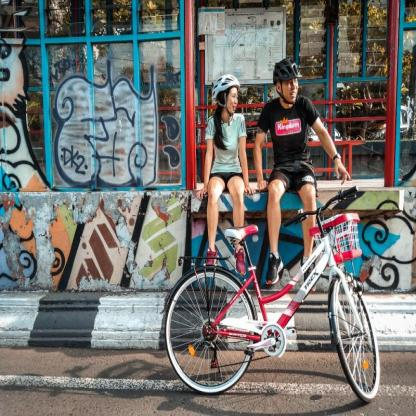Bike: (165, 197, 386, 411)
